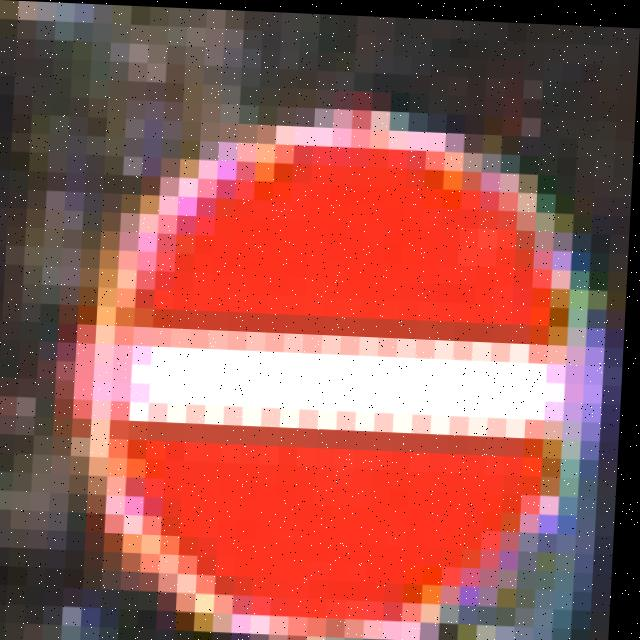road_rough: (54, 115, 623, 640)
